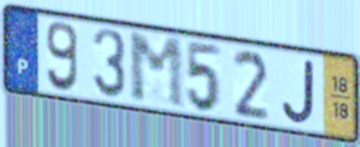2: (230, 47, 272, 121)
3: (90, 26, 128, 101)
5: (183, 37, 224, 114)
9: (44, 19, 80, 95)
J: (280, 57, 317, 126)
M: (126, 32, 188, 112)
